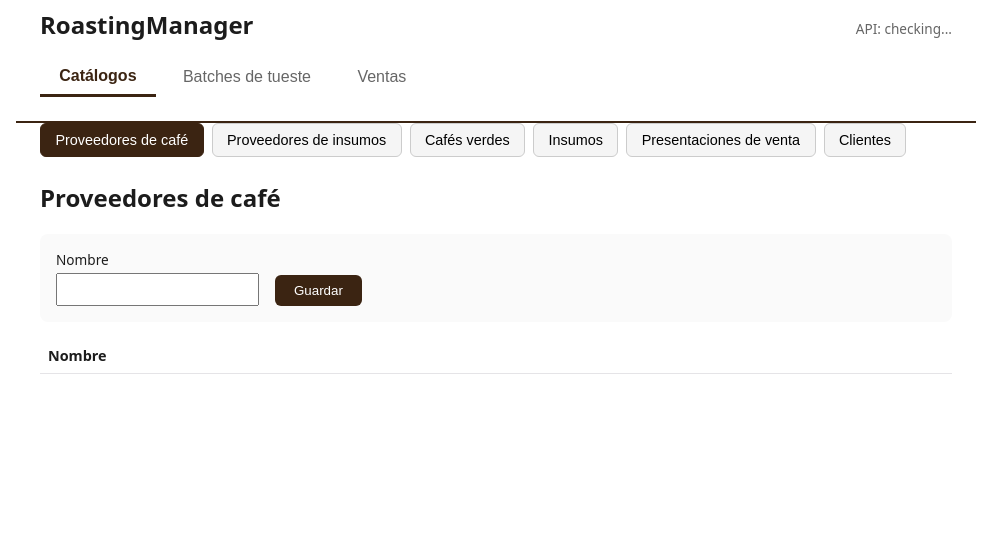
Test: App › navigates to the batches section
The image size is (993, 541).
Click the button "Batches de tueste": (247, 77) 164,57 -> 330,97
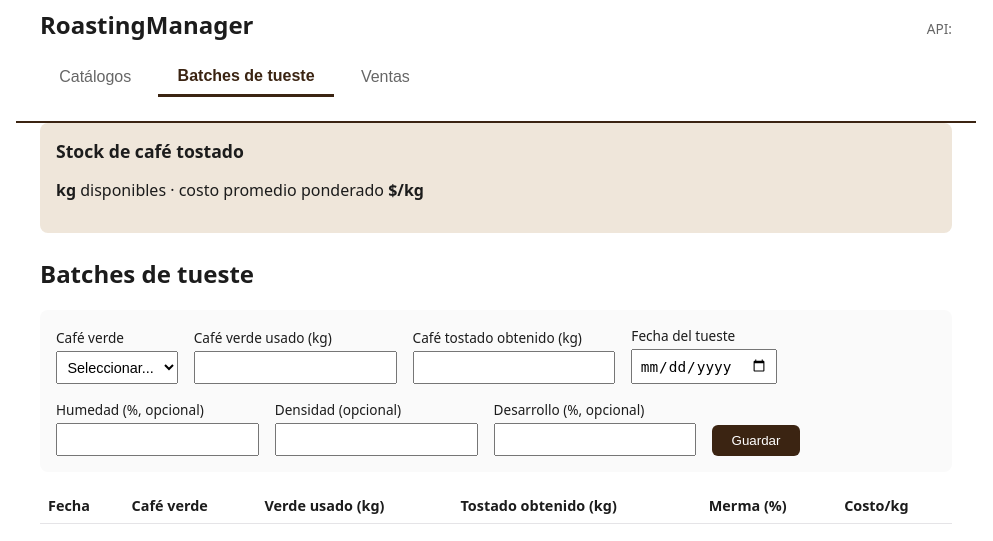
Check: the heading "Batches de tueste" is shown, box 40,257 -> 254,290
